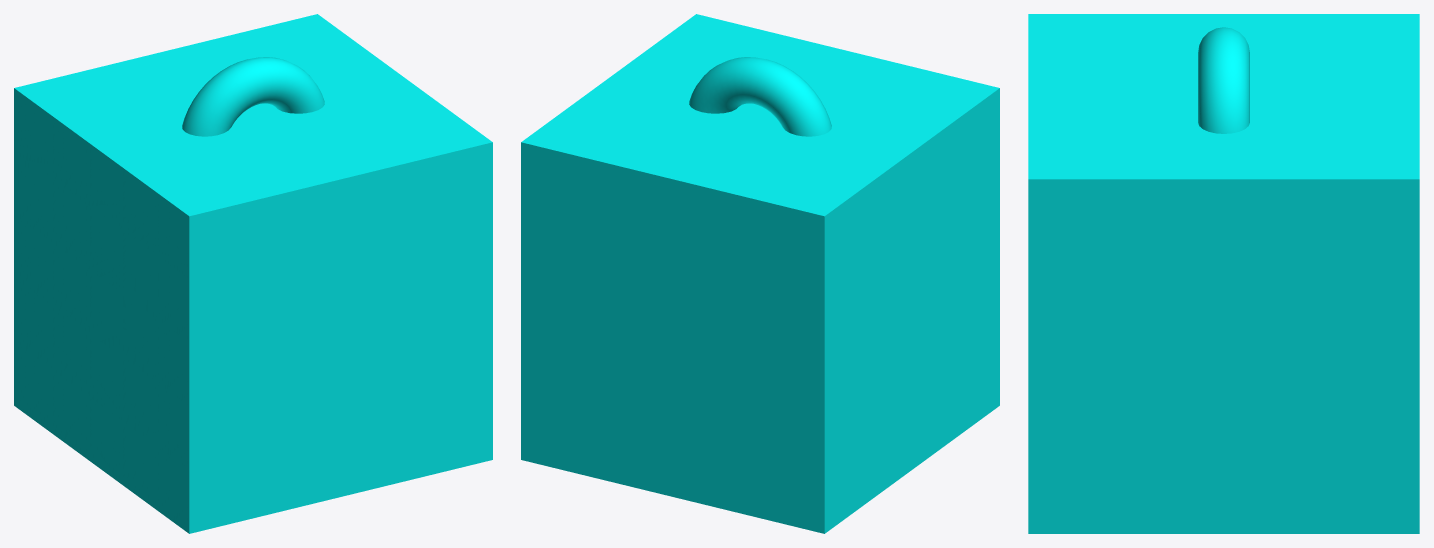
3 renders of one model, left to right at view 1: azimuth 30°, elevation 25°; view 2: azimuth 150°, elevation 25°; view 3: azimuth 270°, elevation 25°, orthographic. The views are drawn at different scales.
Visible parts, largest first — view 1: 큐브, 고리 1; view 2: 큐브, 고리 1; view 3: 큐브, 고리 1.
Part boxes in pixels (x1,y1,x2,y2): 큐브: [14, 14, 492, 533]; 고리 1: [182, 57, 324, 136]; 큐브: [521, 14, 999, 533]; 고리 1: [689, 57, 831, 136]; 큐브: [1028, 14, 1419, 533]; 고리 1: [1198, 27, 1249, 133].
Size of the model in its own units: 1.6 by 1.88 by 1.6.
